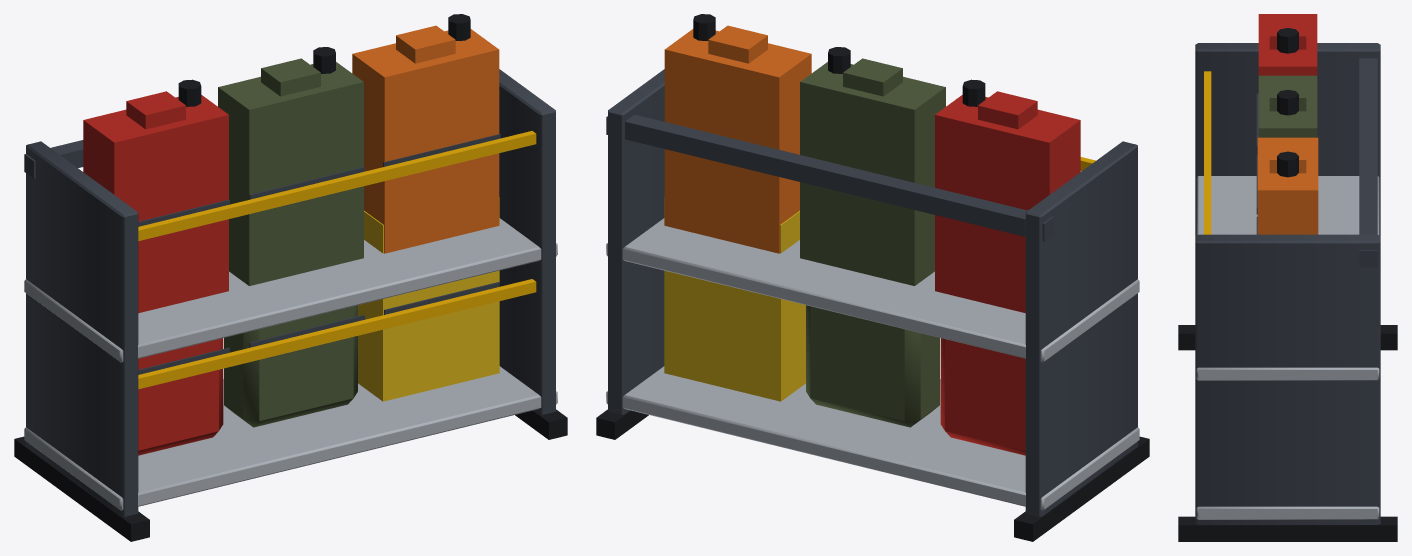
Rendered from barrel_jerrycan_rack.glb.
3 views of the same model, side by side, from view 1: azimuth 30°, elevation 25°; view 2: azimuth 150°, elevation 25°; view 3: azimuth 270°, elevation 25° (orthographic). The views are drawn at different scales.
Parts seen in each view (by area): view 1: barrel_jerrycan_rack; view 2: barrel_jerrycan_rack; view 3: barrel_jerrycan_rack.
Part boxes in pixels (<box>): barrel_jerrycan_rack: <box>14,14,567,541</box>; barrel_jerrycan_rack: <box>596,14,1149,541</box>; barrel_jerrycan_rack: <box>1178,14,1397,541</box>.
Bounding box in the file's own units: 1.3 × 1.1 × 0.6.
